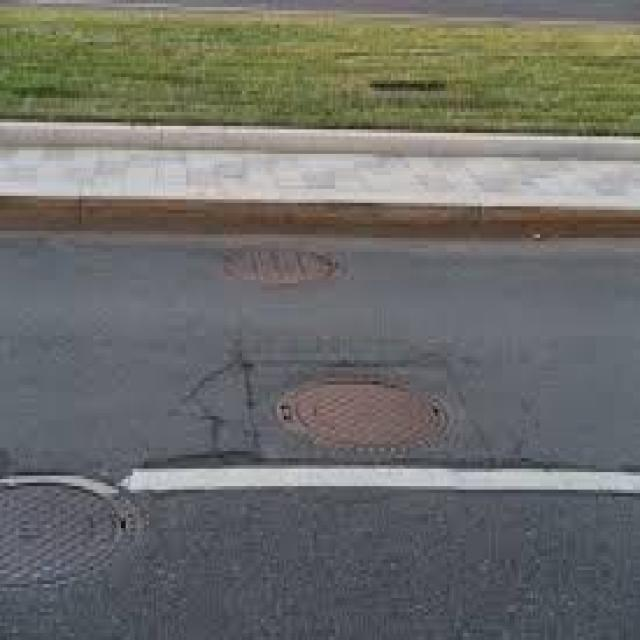manhole: (1, 481, 123, 587), (276, 374, 440, 451), (225, 246, 336, 284)
